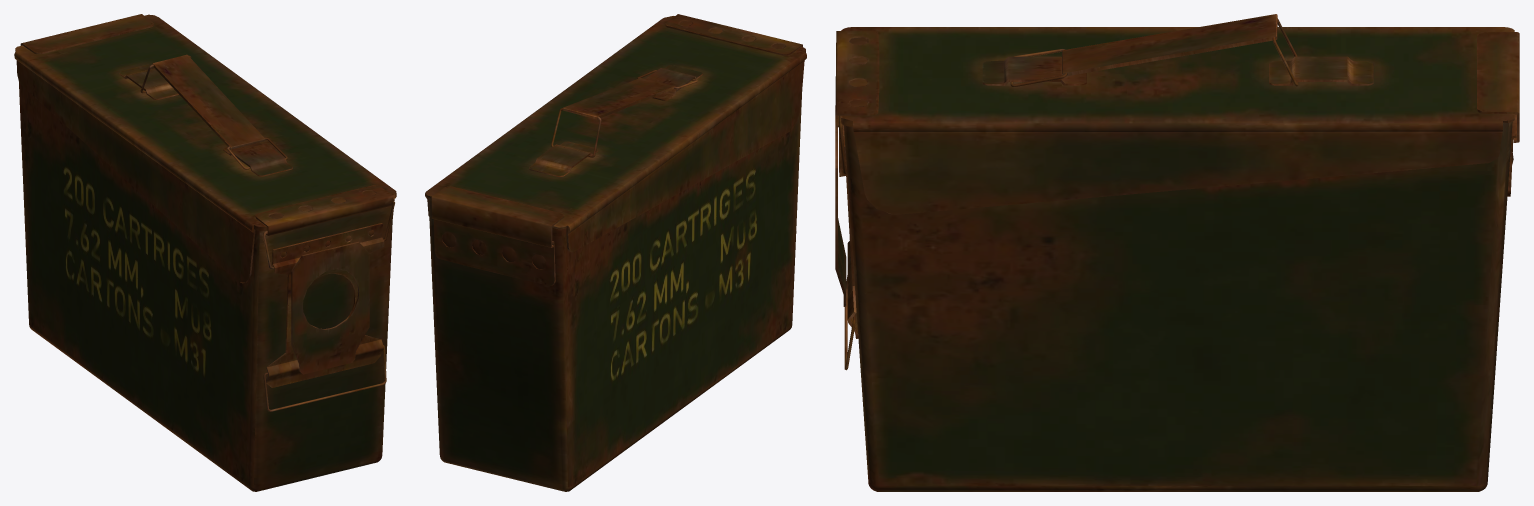
The model's file is ammo_box.glb.
The picture shows the model from 3 angles, left to right: view 1: azimuth 30°, elevation 25°; view 2: azimuth 150°, elevation 25°; view 3: azimuth 270°, elevation 25°; orthographic projection. The views are drawn at different scales.
Parts seen in each view (by area): view 1: ammo_box, ammo_box_handle, ammo_box_latch; view 2: ammo_box, ammo_box_handle; view 3: ammo_box, ammo_box_handle.
Part boxes in pixels (left/top/right/bottom): ammo_box: left=14, top=14, right=396, bottom=491; ammo_box_handle: left=152, top=54, right=265, bottom=149; ammo_box_latch: left=263, top=345, right=386, bottom=411; ammo_box: left=425, top=14, right=806, bottom=491; ammo_box_handle: left=562, top=78, right=675, bottom=119; ammo_box: left=835, top=27, right=1519, bottom=491; ammo_box_handle: left=1062, top=14, right=1277, bottom=76.
Size of the model in its own units: 0.0864 by 0.1773 by 0.2578.
1 material, 1 textured.
